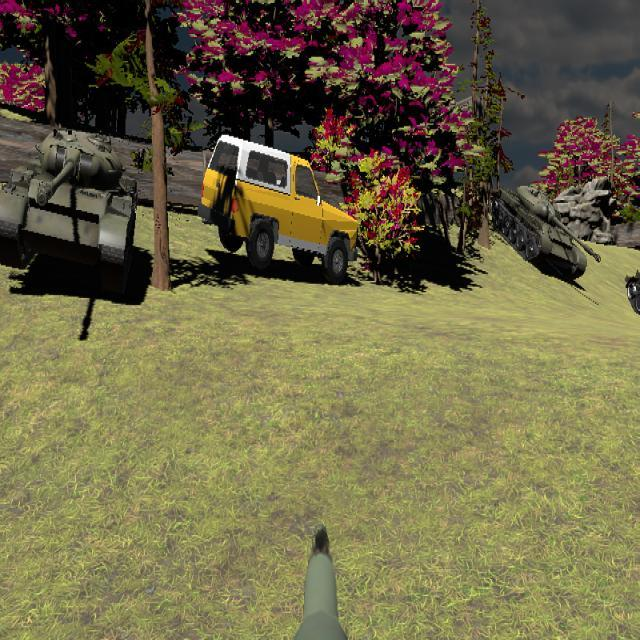Tank: (1, 128, 139, 298), (490, 184, 602, 282), (625, 248, 640, 328), (625, 252, 640, 322)
car: (200, 133, 360, 283)
